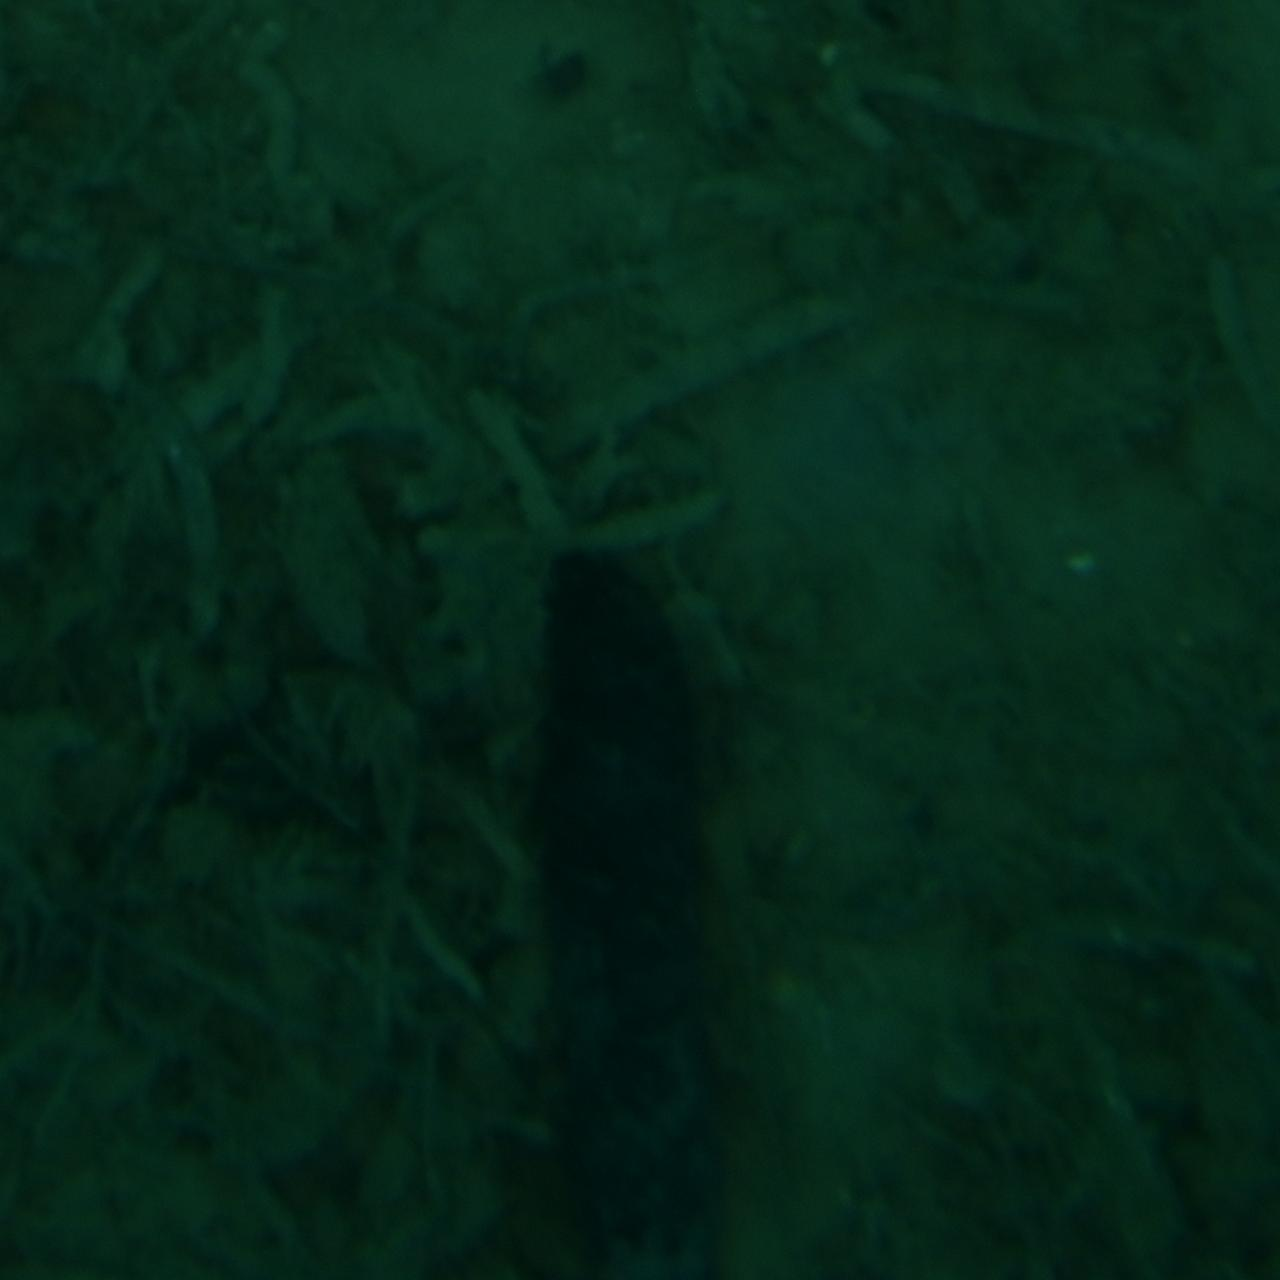Holothuria tubulosa: (508, 531, 772, 1279)
